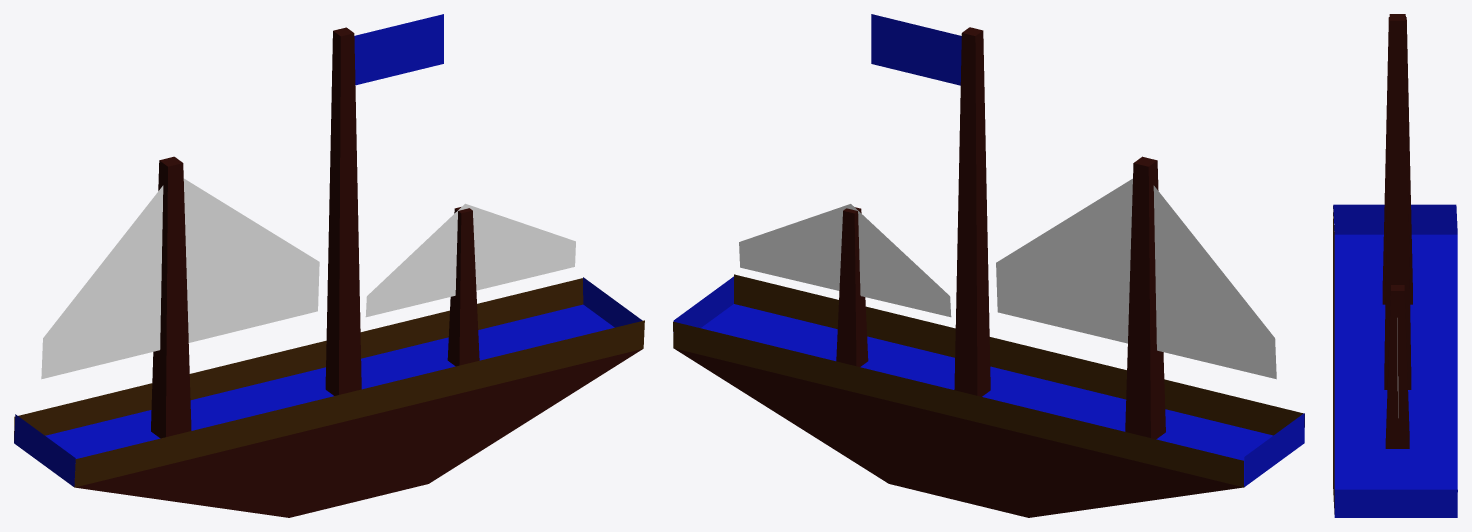
Rendered from flagship1.obj.
3 renders of one model, left to right at view 1: azimuth 30°, elevation 25°; view 2: azimuth 150°, elevation 25°; view 3: azimuth 270°, elevation 25°, orthographic.
Visible parts, largest first — view 1: Cube, Plane.001, Cube.003, Plane, Cube.002, Plane.002, Cube.001; view 2: Cube, Plane.001, Cube.003, Plane, Cube.002, Plane.002, Cube.001; view 3: Cube, Cube.003, Cube.001, Cube.002.
Part boxes in pixels (<box>): Cube: <box>14,277,644,517</box>; Plane.001: <box>41,178,319,379</box>; Cube.003: <box>325,27,361,395</box>; Plane: <box>365,203,575,317</box>; Cube.002: <box>151,156,191,438</box>; Plane.002: <box>354,14,443,85</box>; Cube.001: <box>447,207,479,366</box>; Cube: <box>673,274,1304,517</box>; Plane.001: <box>996,178,1276,379</box>; Cube.003: <box>954,27,990,396</box>; Plane: <box>739,204,951,317</box>; Cube.002: <box>1125,156,1165,439</box>; Plane.002: <box>871,14,961,85</box>; Cube.001: <box>836,207,868,366</box>; Cube: <box>1333,204,1457,517</box>; Cube.003: <box>1384,14,1411,389</box>; Cube.001: <box>1385,285,1409,448</box>; Cube.002: <box>1382,17,1412,304</box>.
Bounding box in the file's own units: 14.46 × 10.68 × 2.68.
